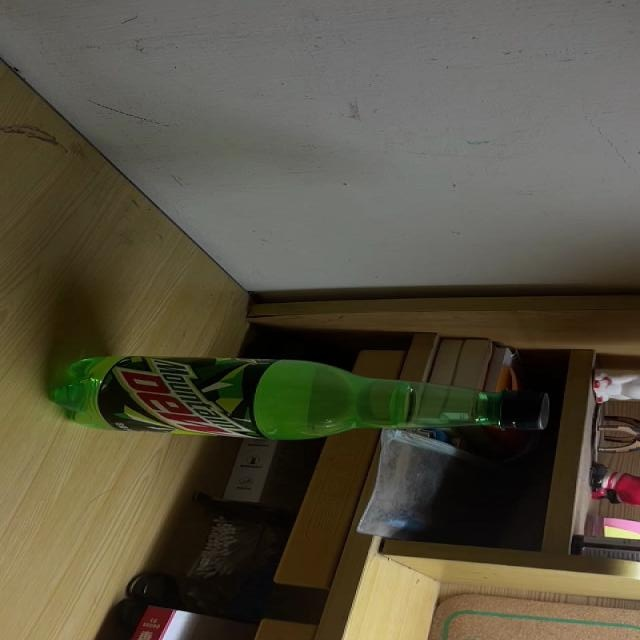Mountain-Dew: (47, 355, 548, 439)
